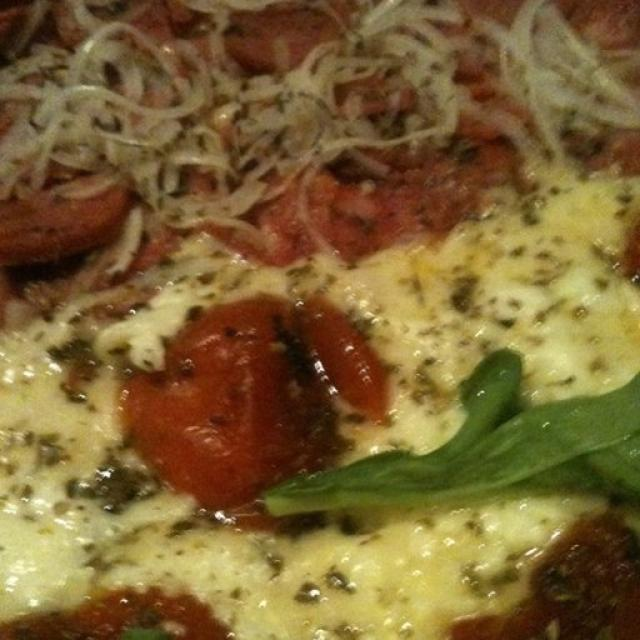Basil: (260, 354, 640, 522)
Onions: (11, 24, 640, 162)
Pepperoni: (0, 182, 132, 251), (190, 10, 308, 71)
Pizza: (0, 0, 640, 640)
Tomato: (126, 310, 380, 474)
